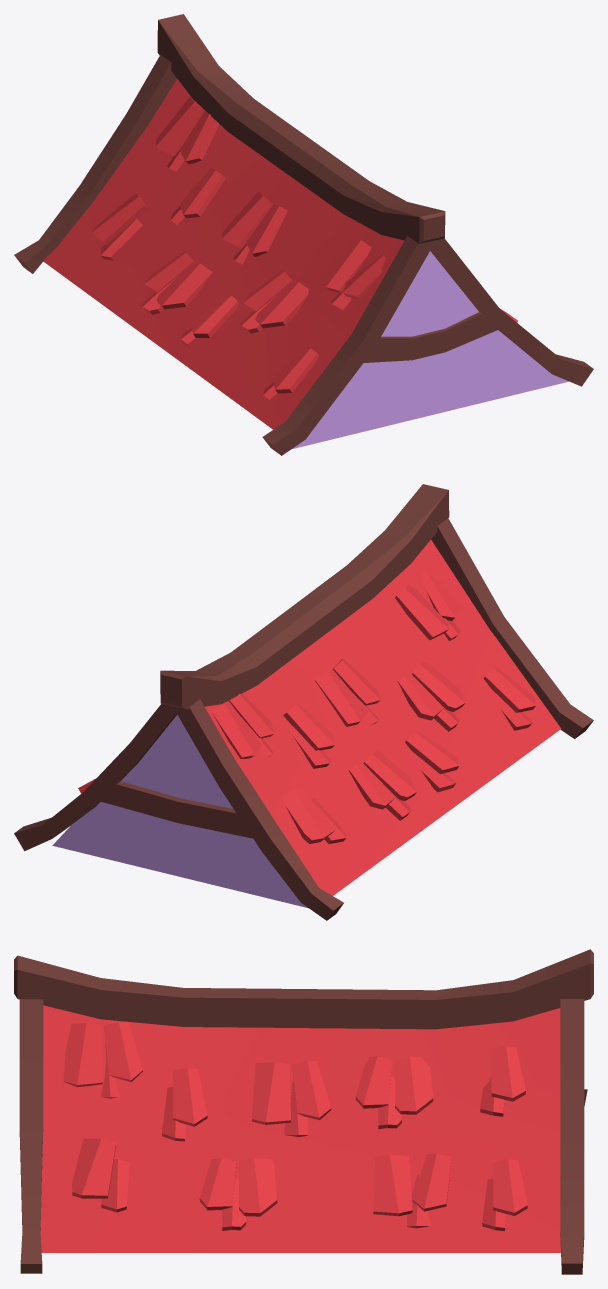
Rendered from BuildingRoof_01.fbx.
3 views of the same model, one above another, from view 1: azimuth 30°, elevation 25°; view 2: azimuth 150°, elevation 25°; view 3: azimuth 270°, elevation 25° (orthographic). The views are drawn at different scales.
Visible parts, largest first — view 1: BuildingRoof_01; view 2: BuildingRoof_01; view 3: BuildingRoof_01.
Part boxes in pixels (bbox=[...]): BuildingRoof_01: bbox=[14, 14, 593, 455]; BuildingRoof_01: bbox=[14, 484, 593, 920]; BuildingRoof_01: bbox=[14, 949, 593, 1274].
Size of the model in its own units: 734 by 474 by 1049.
